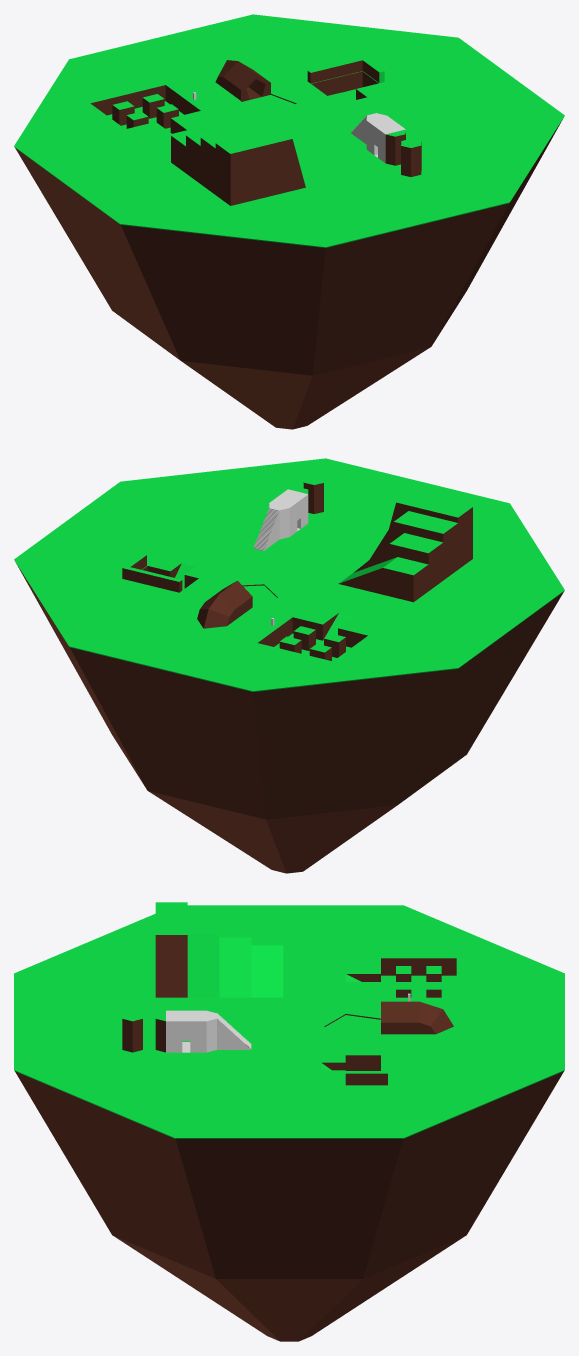
The model's file is Test Grounds v1.1(Collision Test).gltf.
The picture shows the model from 3 angles, top to bottom: view 1: azimuth 30°, elevation 25°; view 2: azimuth 150°, elevation 25°; view 3: azimuth 270°, elevation 25°; orthographic projection. The views are drawn at different scales.
Visible parts, largest first — view 1: Level Mesh-colonly.001, Level Mesh.005, Level Mesh.029, Level Mesh.006, Level Mesh.009, Level Mesh.028, Level Mesh.001, Level Mesh.007, Level Mesh.020, Platform Hex, Level Mesh.014, Level Mesh.018 (+1 smaller); view 2: Level Mesh-colonly.001, Slight Ramp, Level Mesh.006, Level Mesh.005, Level Mesh.007, Level Mesh.029, Level Mesh.009, Level Mesh.018, Level Mesh.003, Level Mesh.016, Level Mesh.004, Platform Hex (+2 smaller); view 3: Level Mesh-colonly.001, Level Mesh.005, Level Mesh.006, Level Mesh.007, Slight Ramp, Level Mesh.029, Level Mesh.001, Level Mesh.003, Level Mesh.022, Level Mesh.021, Level Mesh.028, Level Mesh.009 (+5 smaller).
Part boxes in pixels (left/top/right/bottom): Level Mesh-colonly.001: left=14, top=14, right=564, bottom=429; Level Mesh.005: left=215, top=128, right=305, bottom=205; Level Mesh.029: left=215, top=60, right=270, bottom=101; Level Mesh.006: left=200, top=125, right=259, bottom=194; Level Mesh.009: left=307, top=57, right=384, bottom=83; Level Mesh.028: left=241, top=87, right=295, bottom=116; Level Mesh.001: left=378, top=124, right=405, bottom=165; Level Mesh.007: left=186, top=126, right=230, bottom=183; Level Mesh.020: left=90, top=85, right=165, bottom=115; Platform Hex: left=401, top=138, right=421, bottom=176; Level Mesh.014: left=311, top=71, right=362, bottom=95; Level Mesh.018: left=170, top=111, right=216, bottom=133; Level Mesh-colonly.001: left=14, top=458, right=564, bottom=873; Slight Ramp: left=338, top=557, right=428, bottom=602; Level Mesh.006: left=369, top=511, right=458, bottom=580; Level Mesh.005: left=389, top=491, right=472, bottom=569; Level Mesh.007: left=353, top=533, right=443, bottom=590; Level Mesh.029: left=197, top=580, right=252, bottom=628; Level Mesh.009: left=122, top=553, right=182, bottom=592; Level Mesh.018: left=292, top=605, right=338, bottom=640; Level Mesh.003: left=269, top=497, right=297, bottom=539; Level Mesh.016: left=338, top=616, right=383, bottom=647; Level Mesh.004: left=253, top=508, right=279, bottom=550; Platform Hex: left=303, top=475, right=323, bottom=513; Level Mesh-colonly.001: left=14, top=905, right=564, bottom=1341; Level Mesh.005: left=155, top=902, right=187, bottom=997; Level Mesh.006: left=187, top=908, right=219, bottom=997; Level Mesh.007: left=219, top=917, right=251, bottom=997; Slight Ramp: left=251, top=929, right=283, bottom=997; Level Mesh.029: left=381, top=1001, right=453, bottom=1034; Level Mesh.001: left=155, top=1010, right=182, bottom=1052; Level Mesh.003: left=190, top=1010, right=216, bottom=1052; Level Mesh.022: left=381, top=975, right=456, bottom=997; Level Mesh.021: left=381, top=958, right=456, bottom=975; Level Mesh.028: left=325, top=1015, right=380, bottom=1038; Level Mesh.009: left=345, top=1043, right=387, bottom=1085.
Size of what is drawn, in the model's own units: 432 by 317 by 432.
